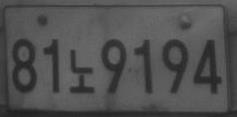1: (131, 39, 159, 94), (41, 37, 67, 93)
4: (193, 39, 222, 94)
8: (11, 37, 38, 94)
9: (161, 37, 189, 94), (100, 38, 127, 95)
노: (69, 48, 94, 92)
